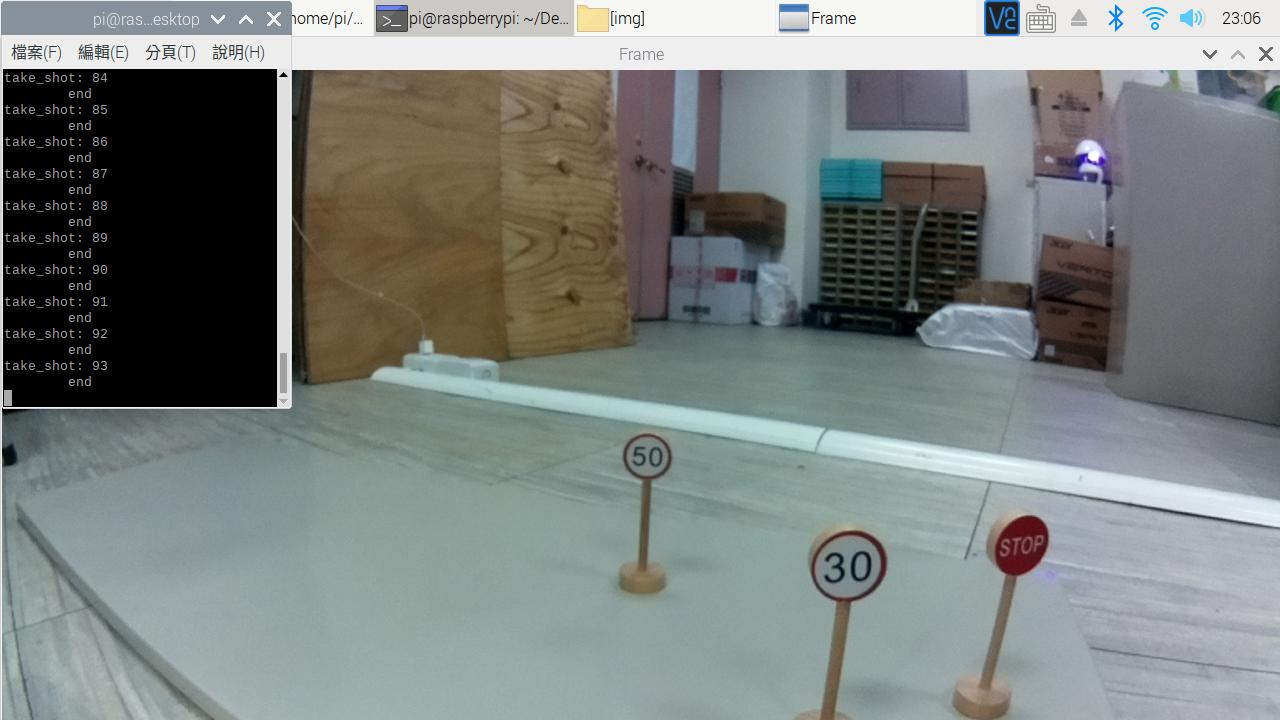Speed30: (808, 523, 899, 608)
Speed50: (620, 427, 678, 495)
Stop: (976, 506, 1068, 585)
